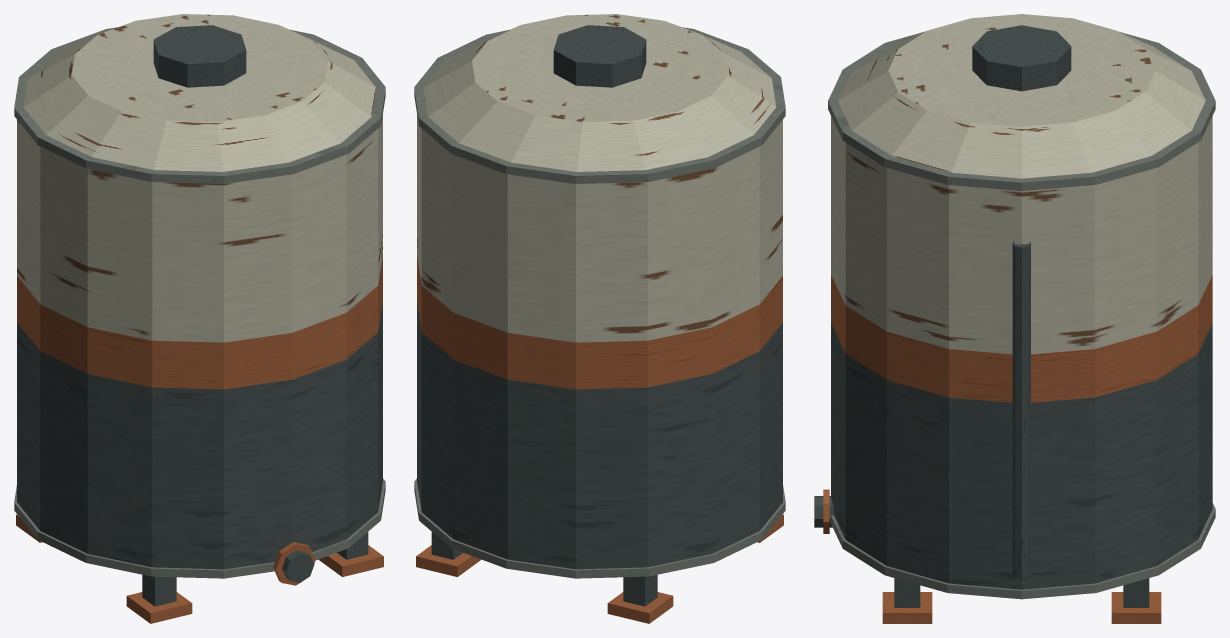
Rendered from FuelTank.fbx.
3 views of the same model, side by side, from view 1: azimuth 30°, elevation 25°; view 2: azimuth 150°, elevation 25°; view 3: azimuth 270°, elevation 25° (orthographic). The views are drawn at different scales.
Parts seen in each view (by area): view 1: FuelTank; view 2: FuelTank; view 3: FuelTank.
Part boxes in pixels (box(x1,y1,x2,y2)): FuelTank: box(14, 14, 385, 623); FuelTank: box(414, 14, 785, 623); FuelTank: box(814, 14, 1215, 623).
Bounding box in the file's own units: 514 × 750 × 526.
